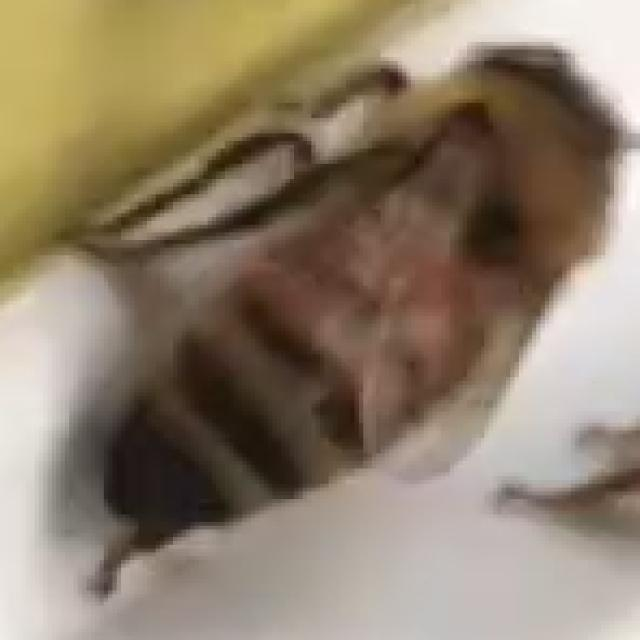honeybee: (125, 34, 591, 564)
